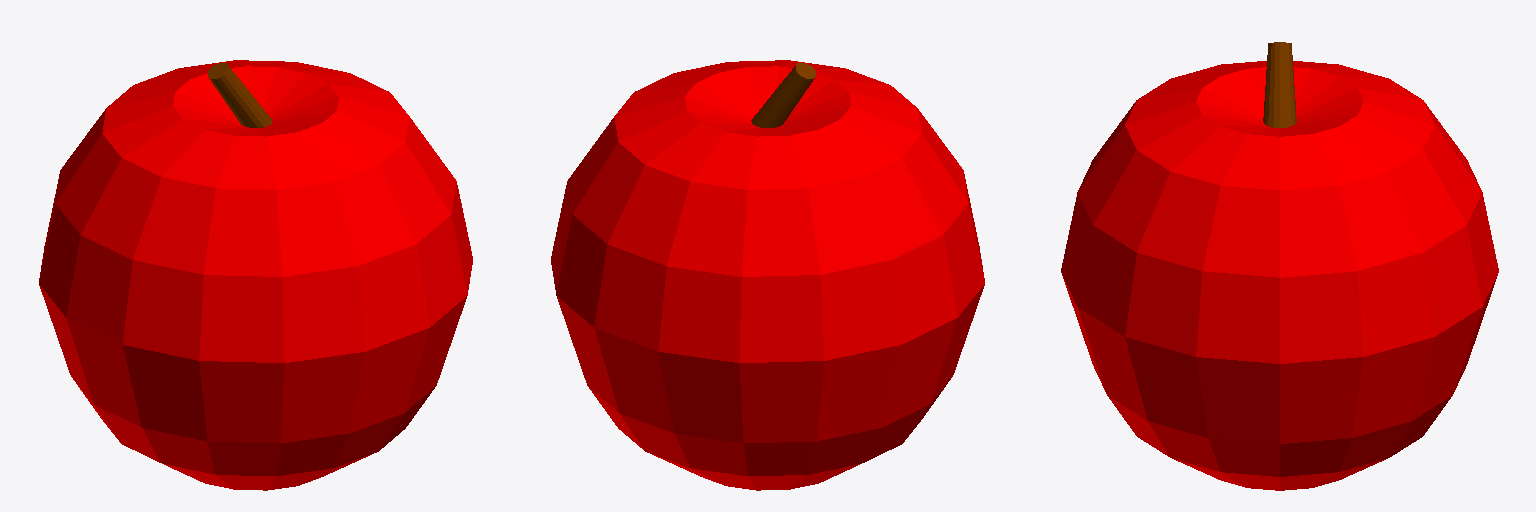
Rendered from Apple.obj.
3 views of the same model, side by side, from view 1: azimuth 30°, elevation 25°; view 2: azimuth 150°, elevation 25°; view 3: azimuth 270°, elevation 25° (orthographic).
Parts seen in each view (by area): view 1: Apple; view 2: Apple; view 3: Apple.
Part boxes in pixels (left/top/right/bottom): Apple: left=39, top=60, right=472, bottom=490; Apple: left=551, top=60, right=984, bottom=490; Apple: left=1061, top=42, right=1498, bottom=490.
Size of the model in its own units: 0.16 by 0.1607 by 0.16.